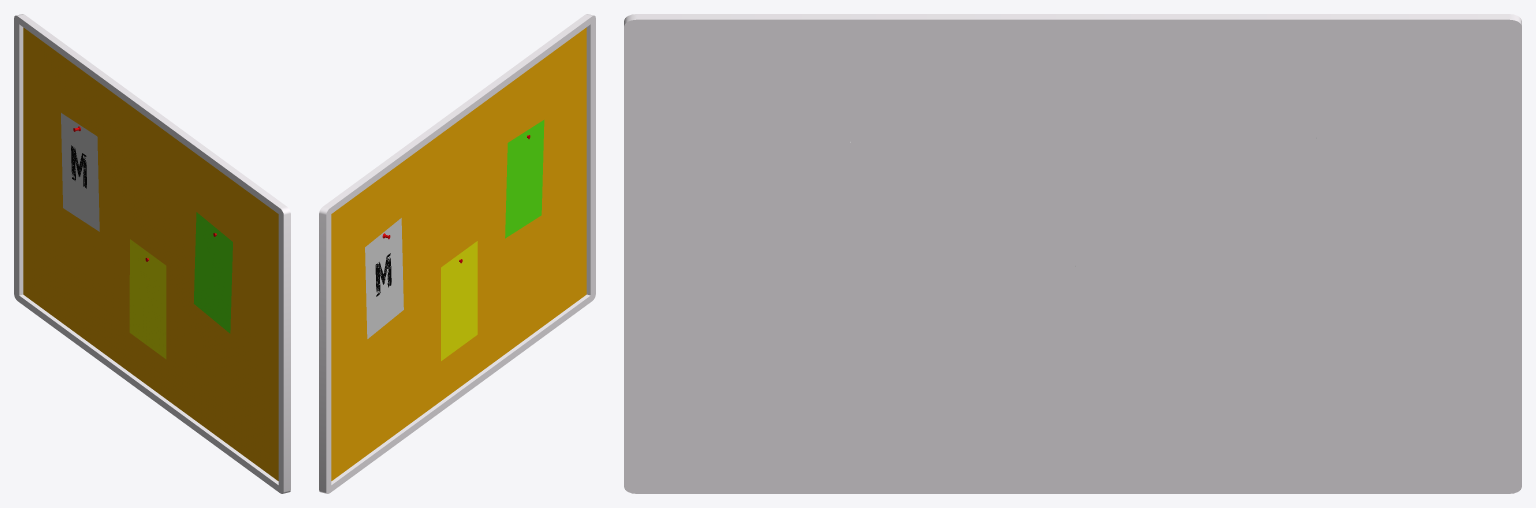
File: uploads_files_5495937_pinboard.fbx
3 renders of one model, left to right at view 1: azimuth 30°, elevation 25°; view 2: azimuth 150°, elevation 25°; view 3: azimuth 270°, elevation 25°, orthographic. The views are drawn at different scales.
Visible parts, largest first — view 1: Board, Paper1, Paper2, Paper; view 2: Board, Paper2, Paper, Paper1; view 3: Board.
Part boxes in pixels (<box>): Board: <box>14,14,290,493</box>; Paper1: <box>129,239,166,358</box>; Paper2: <box>193,212,232,333</box>; Paper: <box>61,113,99,231</box>; Board: <box>319,14,595,493</box>; Paper2: <box>505,120,544,238</box>; Paper: <box>365,218,403,338</box>; Paper1: <box>441,241,477,360</box>; Board: <box>624,14,1521,493</box>.
Size of the model in its own units: 6.85 by 180 by 309.
